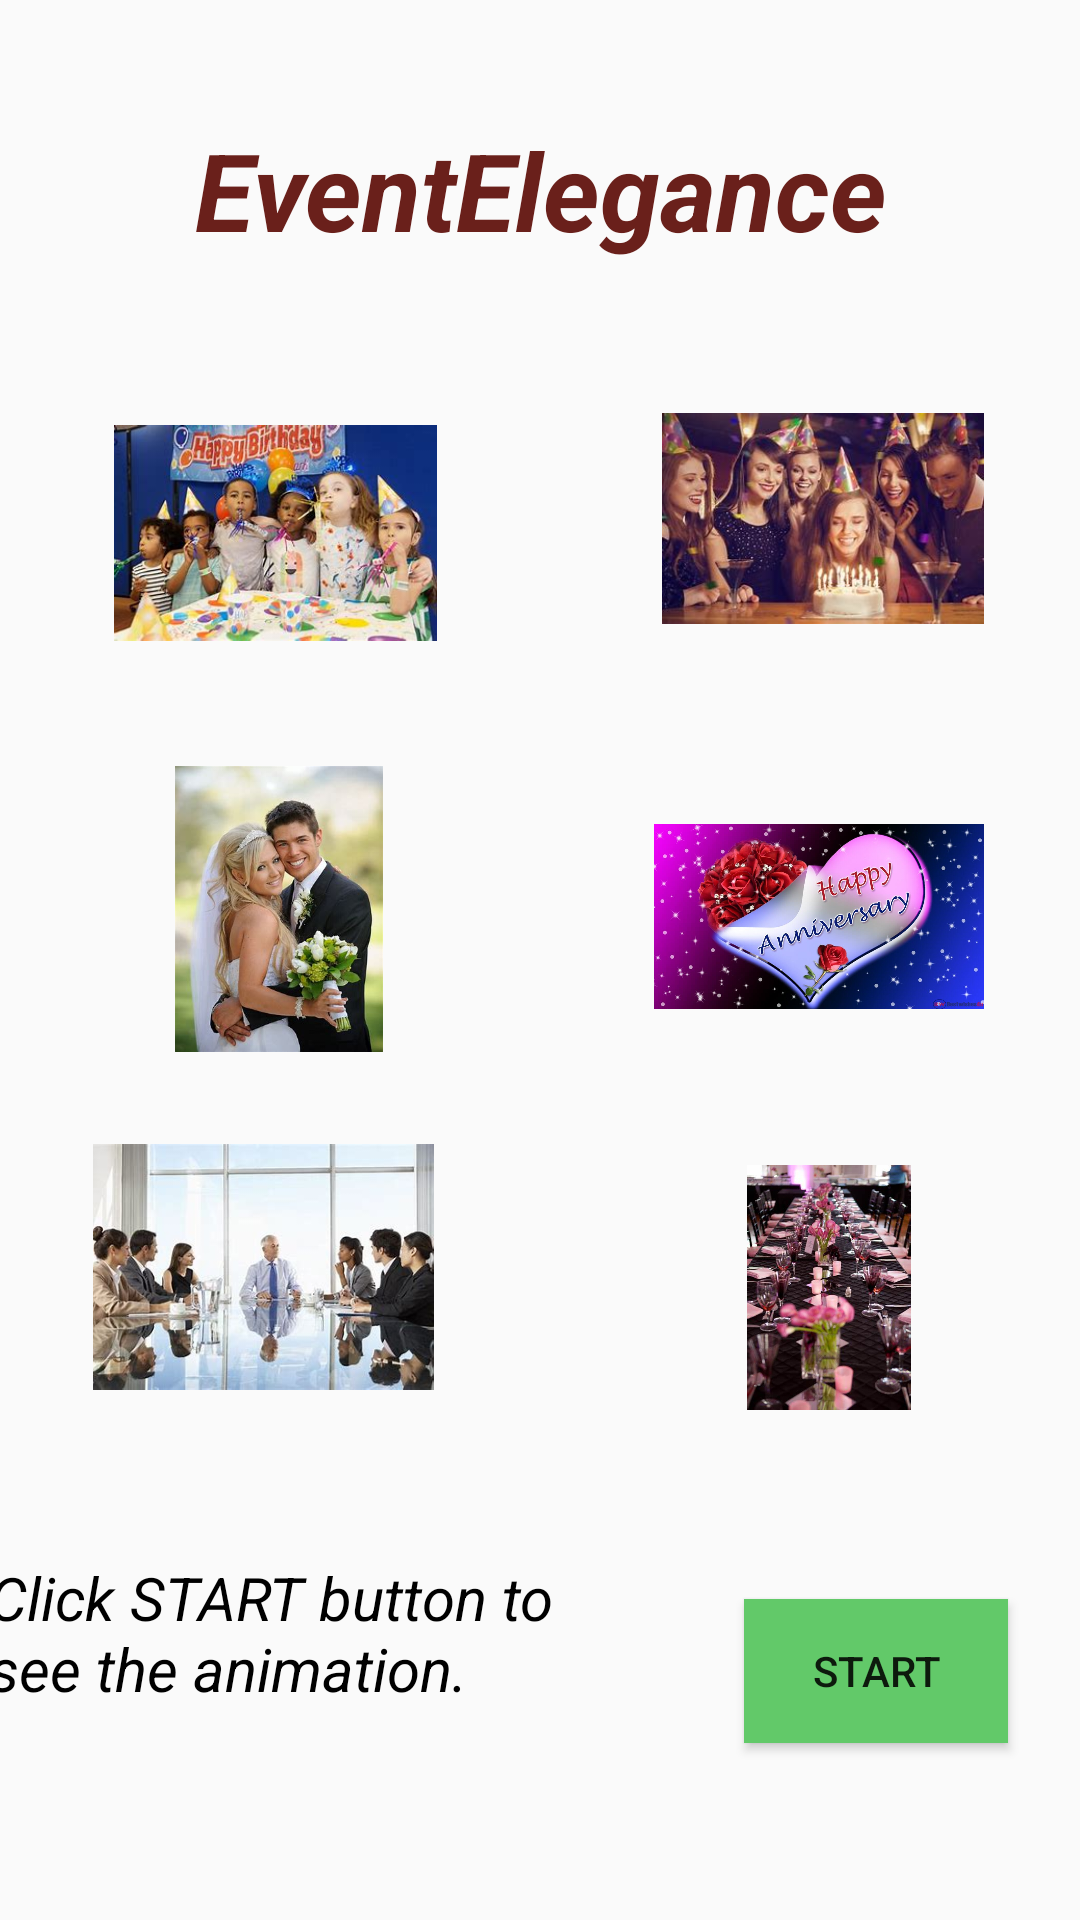

Screen size 1080*1920. Icon name, then its box in pixels as (x1, y1, x2, y2):
adult: (662, 413, 984, 624)
board: (93, 1144, 434, 1390)
child: (114, 425, 437, 641)
func: (747, 1165, 911, 1410)
wed: (175, 766, 383, 1052)
